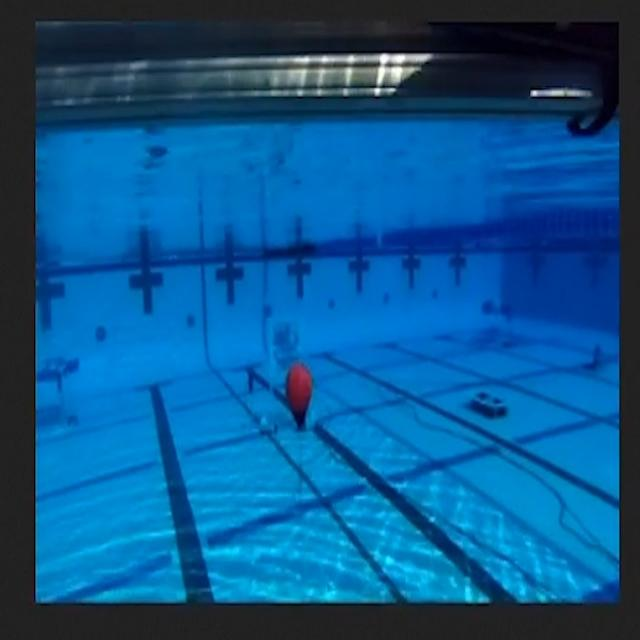Buoy: (275, 351, 329, 454)
